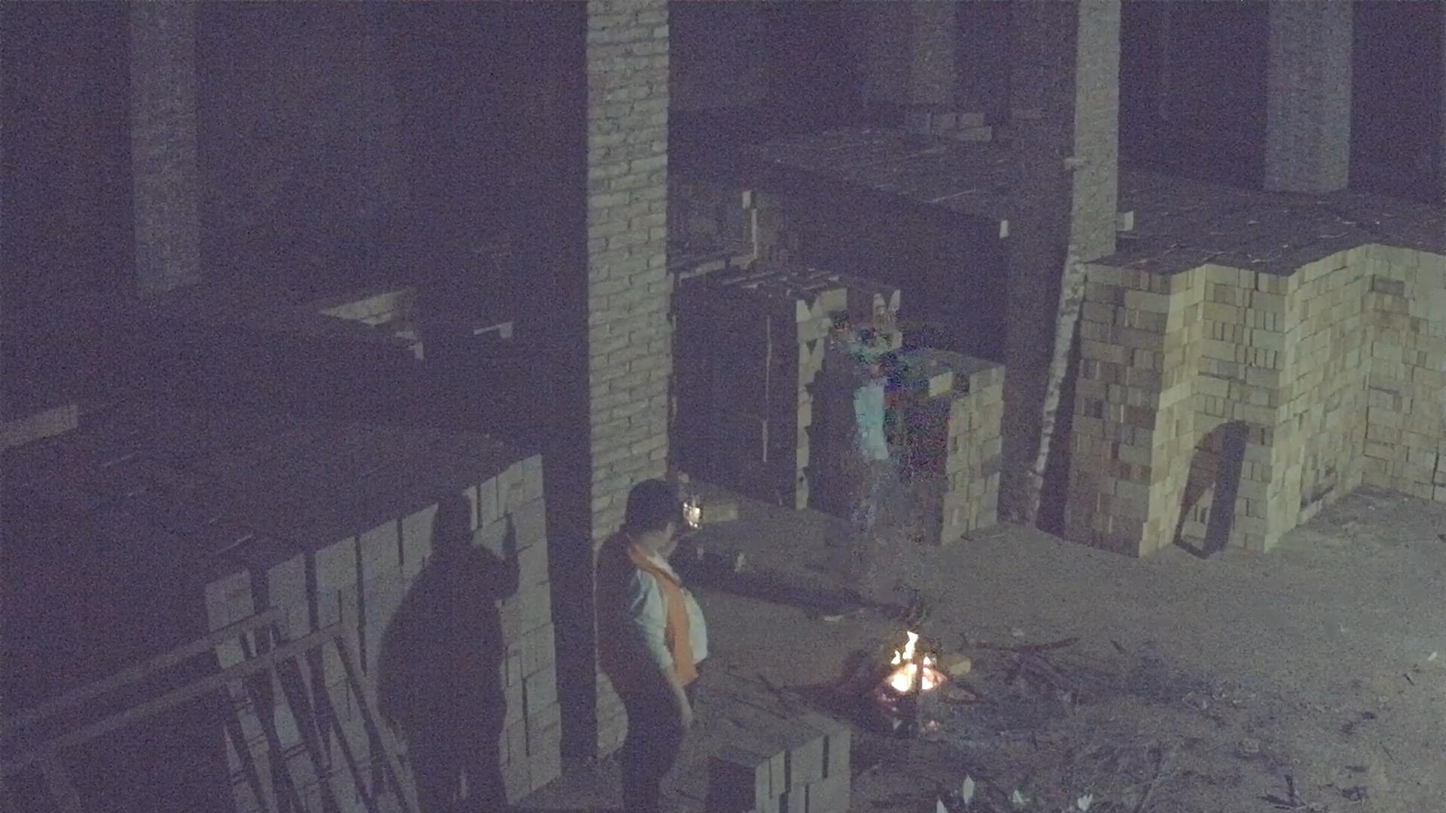fire: (882, 633, 947, 700)
